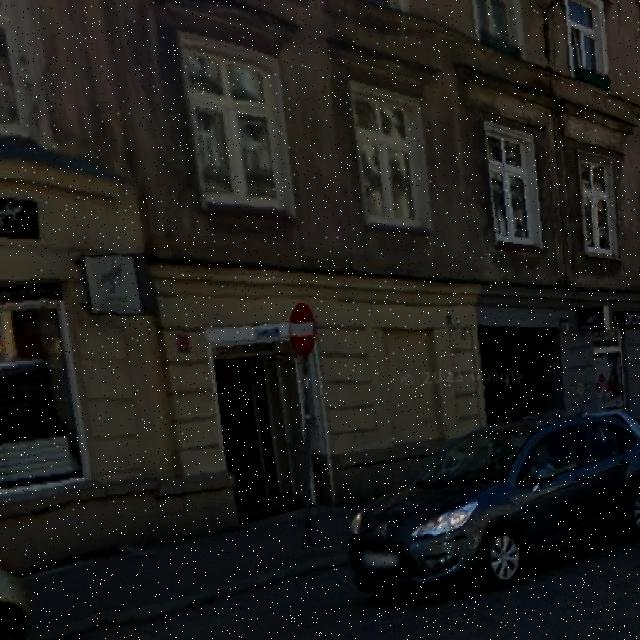Zakaz wjazdu: (286, 298, 316, 356)
